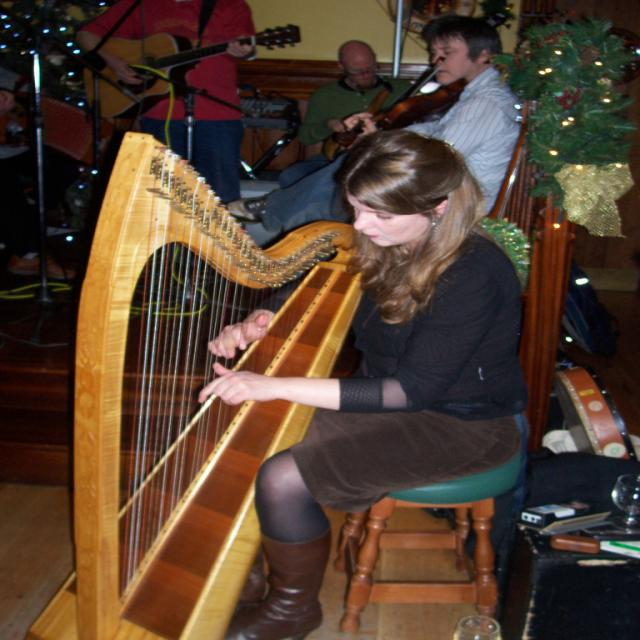guitar: (76, 24, 306, 120)
harp: (26, 133, 378, 640)
violin: (336, 78, 466, 159)
